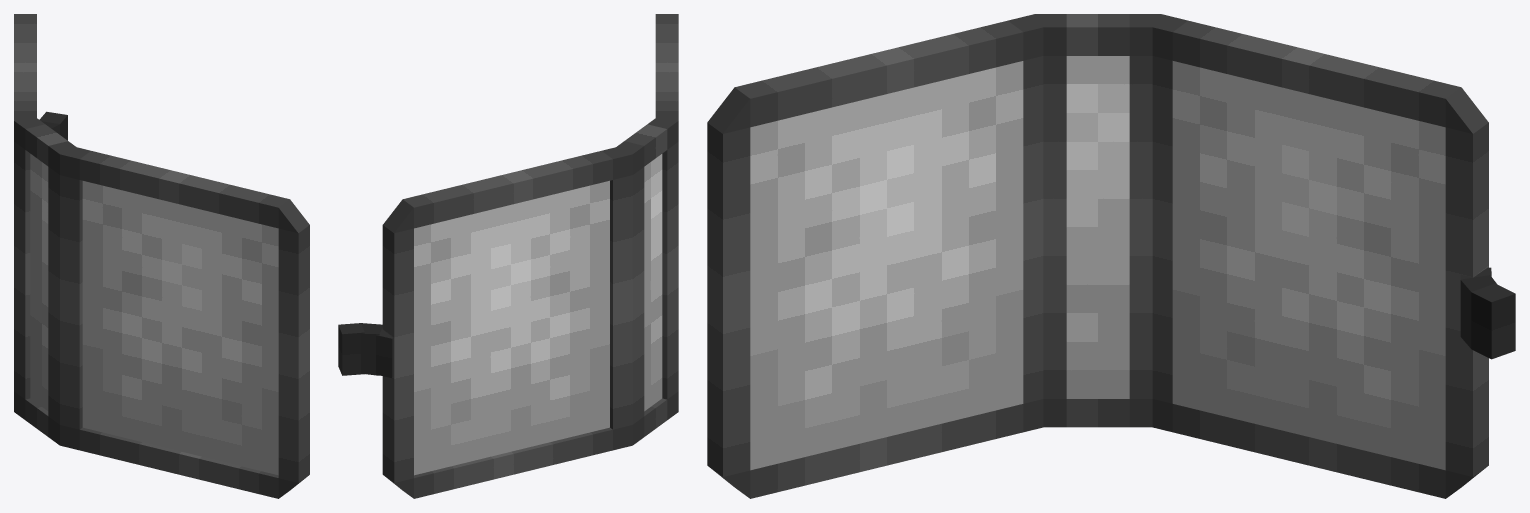
Rendered from book_weaving_open_tint.obj.
3 renders of one model, left to right at view 1: azimuth 30°, elevation 25°; view 2: azimuth 150°, elevation 25°; view 3: azimuth 270°, elevation 25°, orthographic. The views are drawn at different scales.
Parts seen in each view (by area): view 1: COVER_RIGHT_OPEN_Cube.005, SPINE_OPEN_Cube.024, COVER_LEFT_OPEN_Cube.025; view 2: COVER_LEFT_OPEN_Cube.025, SPINE_OPEN_Cube.024, COVER_RIGHT_OPEN_Cube.005; view 3: COVER_LEFT_OPEN_Cube.025, COVER_RIGHT_OPEN_Cube.005, SPINE_OPEN_Cube.024.
Boxes of the visible parts, box(x1,y1,x2,y2) form: COVER_RIGHT_OPEN_Cube.005: box(60, 146, 309, 498); SPINE_OPEN_Cube.024: box(14, 116, 79, 445); COVER_LEFT_OPEN_Cube.025: box(14, 14, 67, 140); COVER_LEFT_OPEN_Cube.025: box(338, 146, 632, 498); SPINE_OPEN_Cube.024: box(613, 116, 678, 445); COVER_RIGHT_OPEN_Cube.005: box(655, 14, 678, 120); COVER_LEFT_OPEN_Cube.025: box(1145, 14, 1515, 498); COVER_RIGHT_OPEN_Cube.005: box(707, 14, 1050, 498); SPINE_OPEN_Cube.024: box(1035, 14, 1160, 427).
Bounding box in the file's own units: 0.5477 × 0.875 × 1.6.
